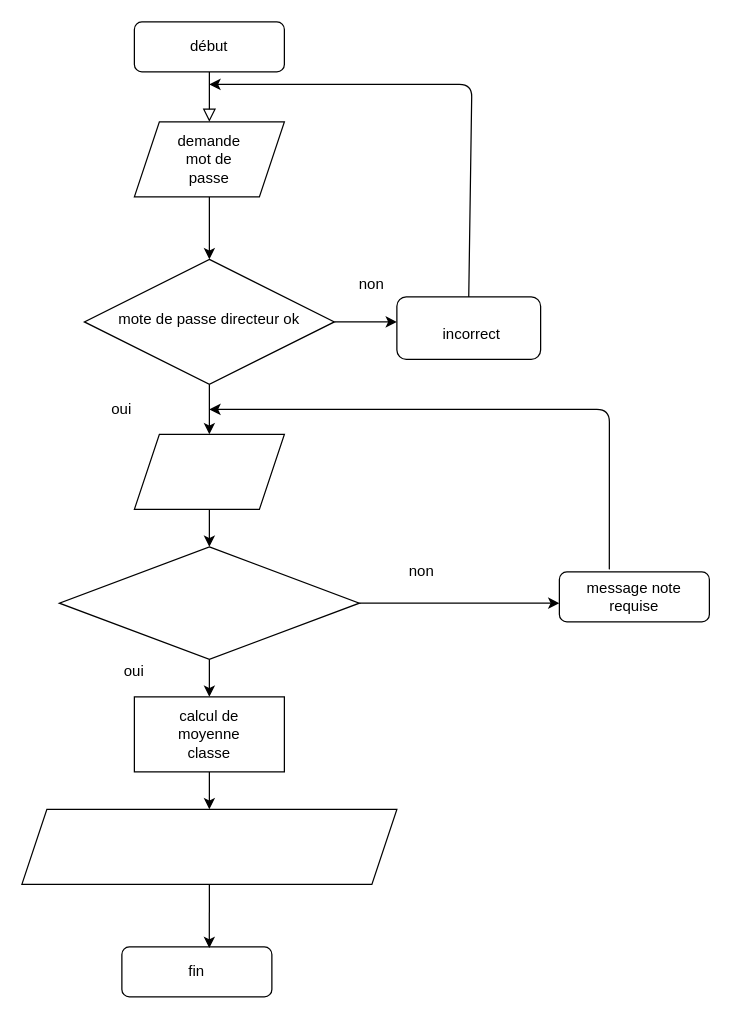
This 731x1019 diagram has some shape labels left out. The centre of each missing label's shape, as x and y in pixels:
affichage notes et moyenne générale de la classe: the point at 209,846
saisie des notes: the point at 208,471
une note saisie au moins +bouton soumettre: the point at 208,602
